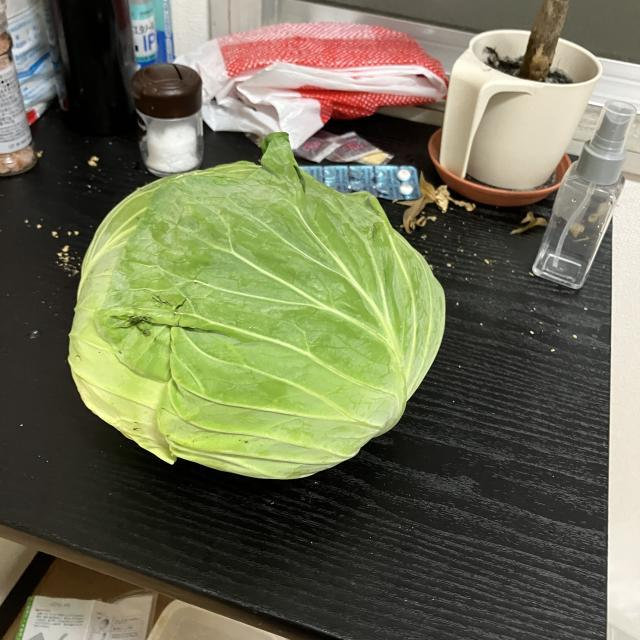cabbage: (67, 131, 450, 489)
